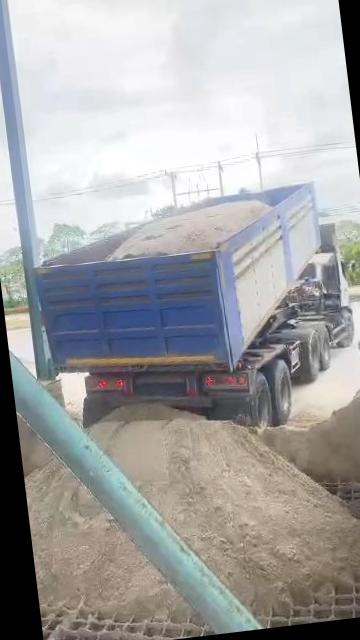sand: (91, 406, 360, 612), (24, 460, 186, 617), (108, 200, 271, 259), (261, 388, 360, 483), (16, 413, 52, 477)
